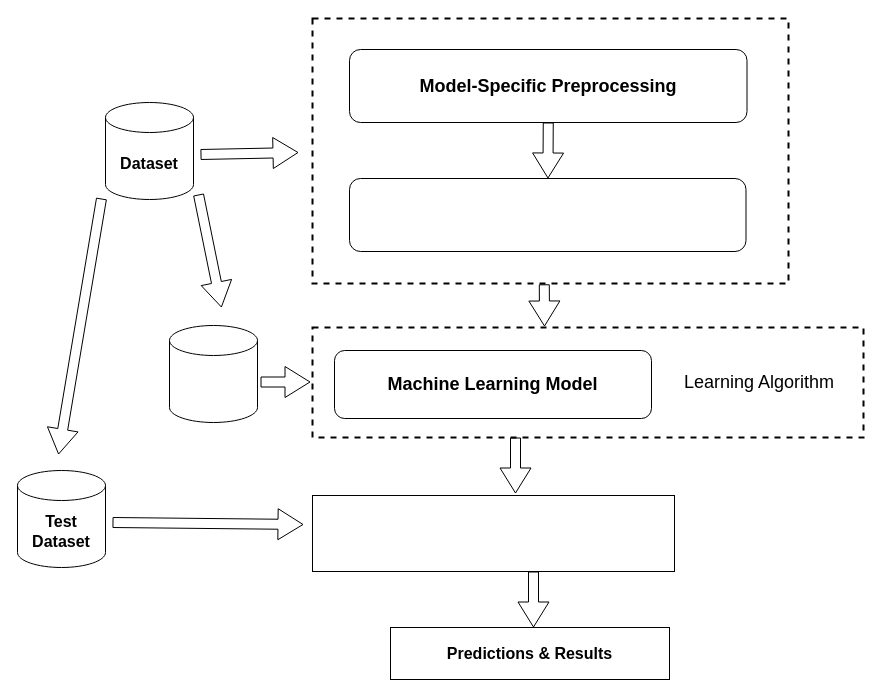
This 882x697 diagram has some shape labels left out. The shapes that lost their labels are listed below. From the top down, each one's centre as x and y in pixels, then its label:
point (547, 215): Model Applied in Inference-mode
point (213, 373): Train Dataset
point (493, 533): Trained Model
